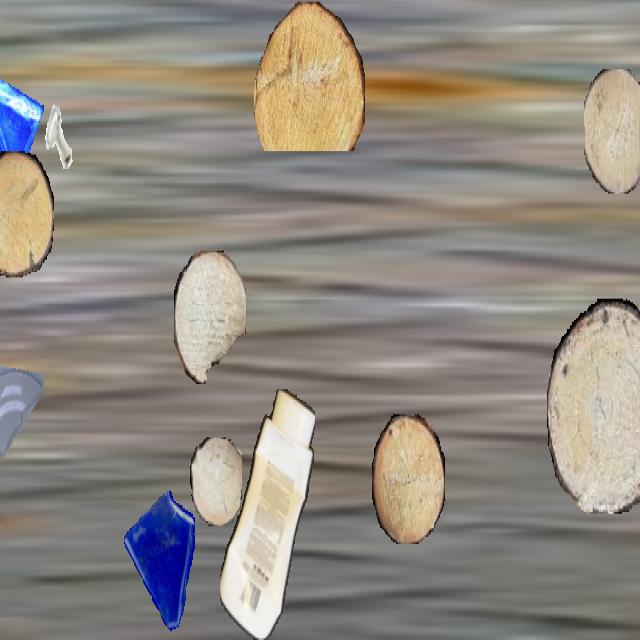glass: (120, 489, 204, 638), (0, 336, 47, 464), (0, 64, 44, 188)
metal: (34, 92, 86, 185), (638, 108, 640, 176)
plastic: (220, 390, 314, 638)
wood: (547, 299, 640, 512), (254, 2, 364, 151), (174, 251, 246, 382), (372, 414, 444, 542), (584, 69, 640, 194), (0, 151, 53, 276), (190, 438, 242, 526)
